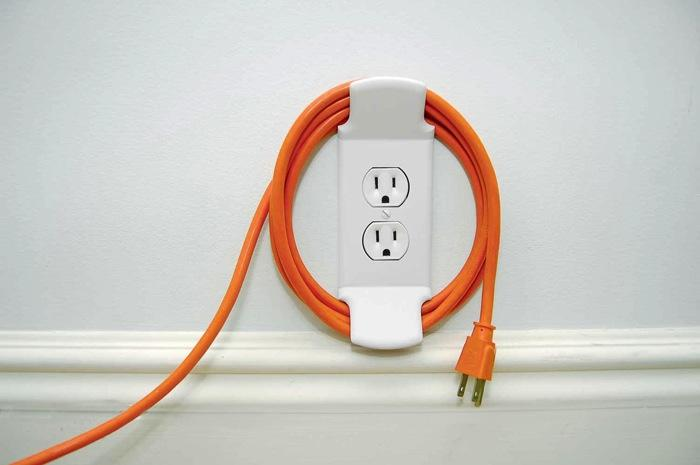outlet: (369, 171, 403, 207), (370, 225, 402, 259)
